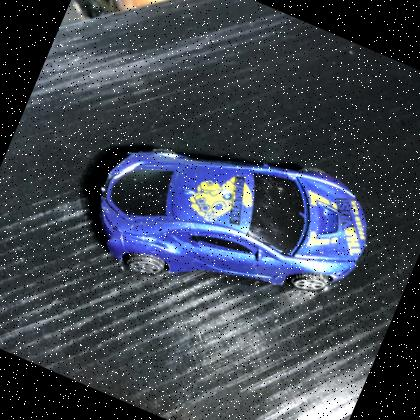Car: (67, 84, 398, 360)
